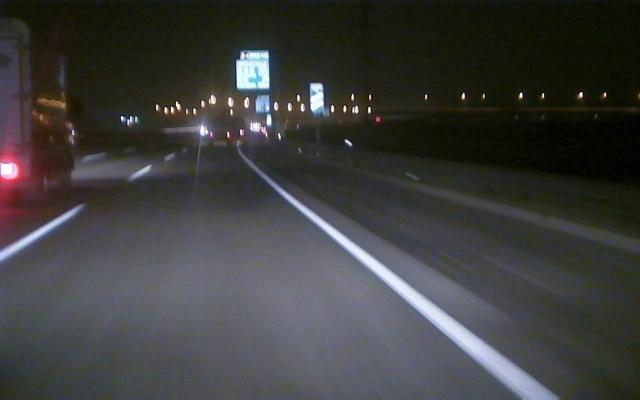lane: (247, 162, 562, 399), (2, 166, 150, 261)
